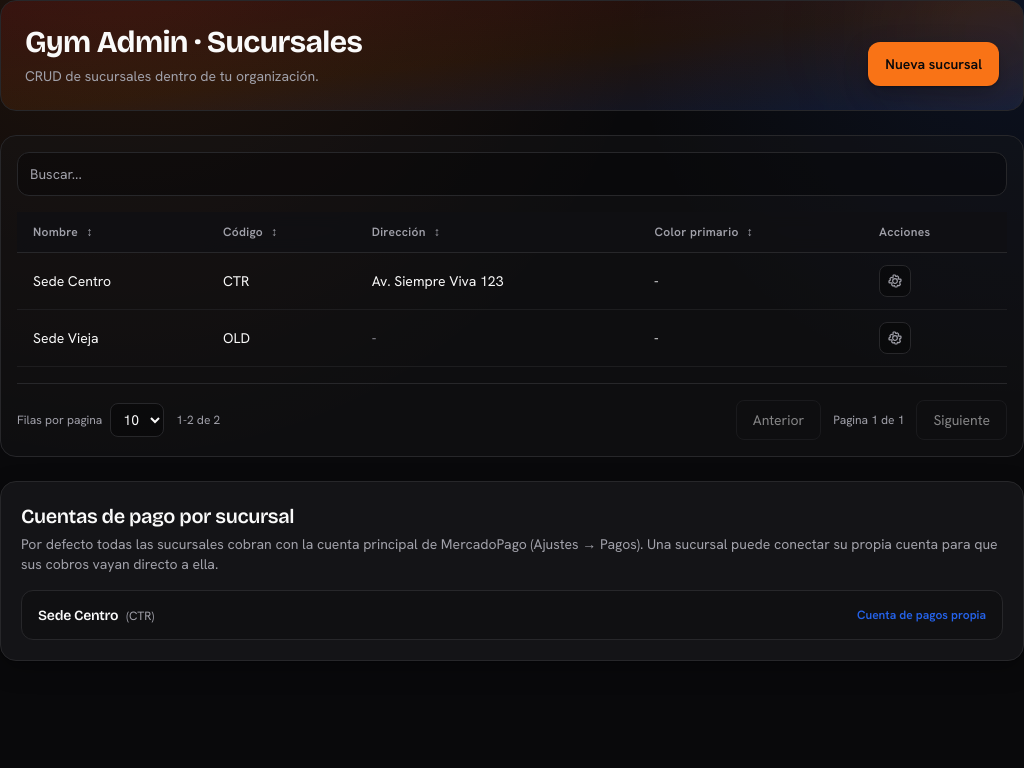
Test: GymAdminBranchesPage — cuentas de pago por sucursal › 409 al conectar: muestra el detail del backend y un CTA a Ajustes → Pagos
Click the button "Sede Centro(CTR) Cuenta de pagos propia" at (78, 615), box 22,591 -> 1002,639
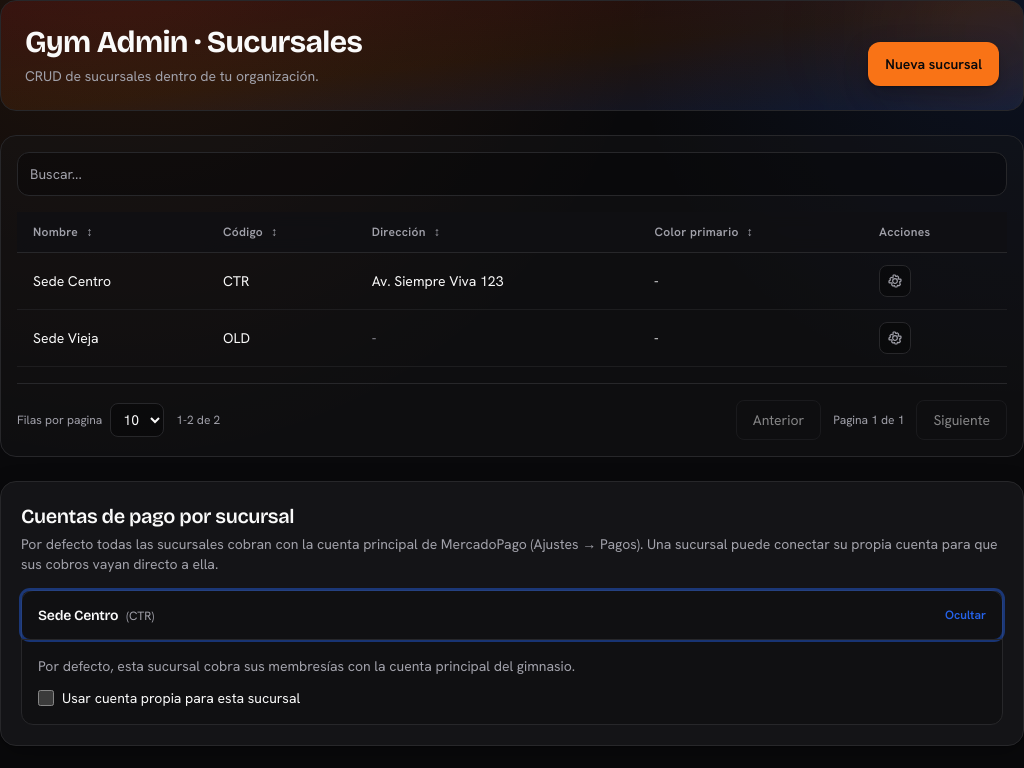
Now the text "cobra sus membresías con la cuenta principal" is shown, box 38,657 -> 575,675
Click the checkbox labelled "Usar cuenta propia para esta sucursal" at (46, 698), box 38,690 -> 54,706
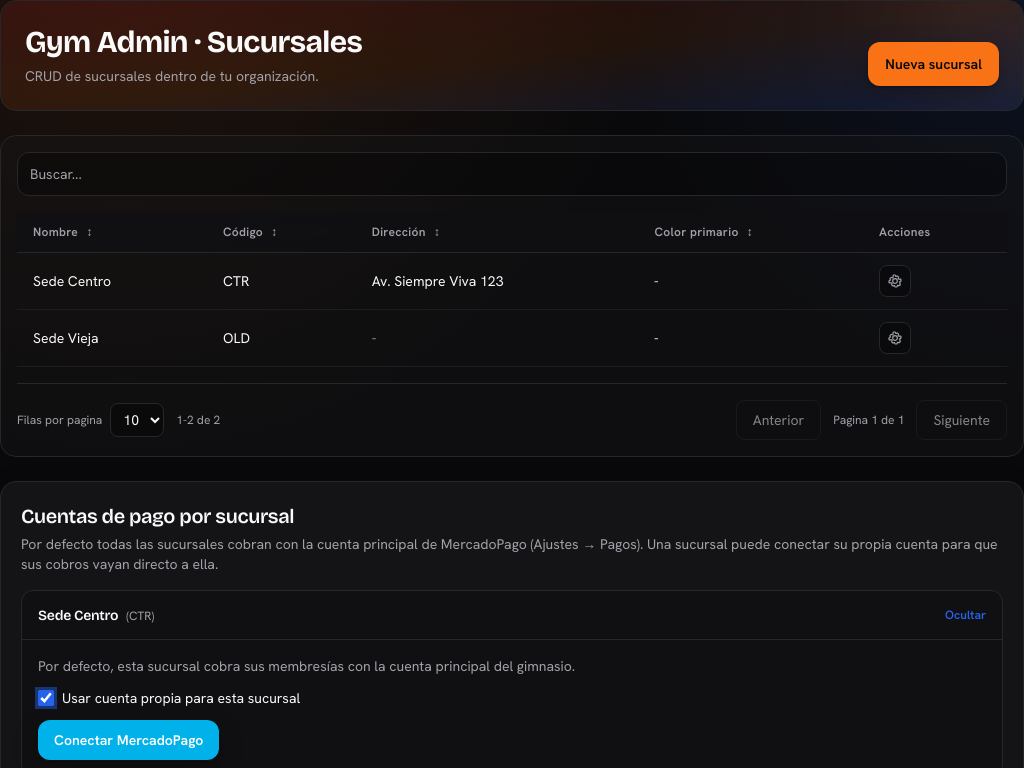
Click the button "Conectar MercadoPago" at (129, 740), box 38,720 -> 219,760
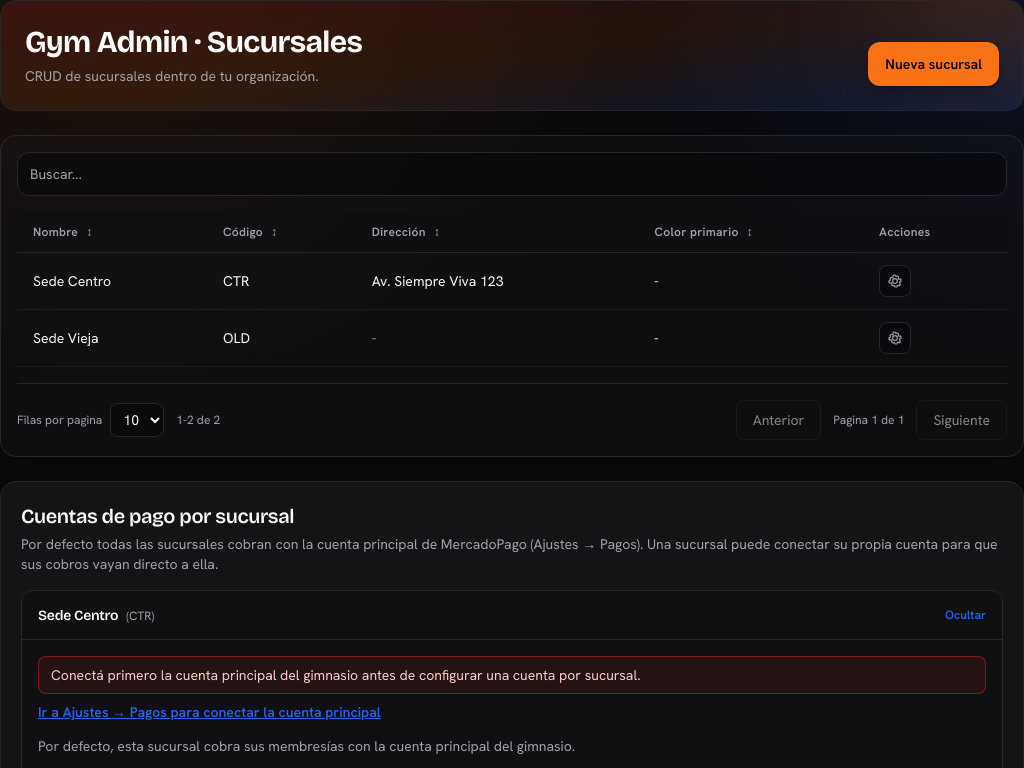
Now the text "Conectá primero la cuenta principal del gimnasio" is shown, box 51,666 -> 640,684
